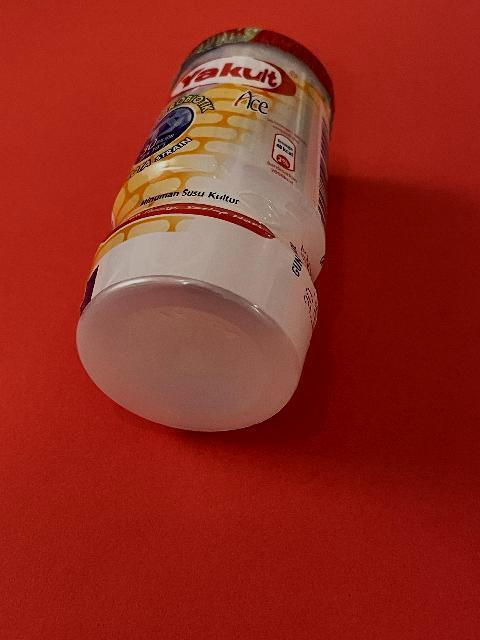plasticbottle: (75, 26, 335, 434)
